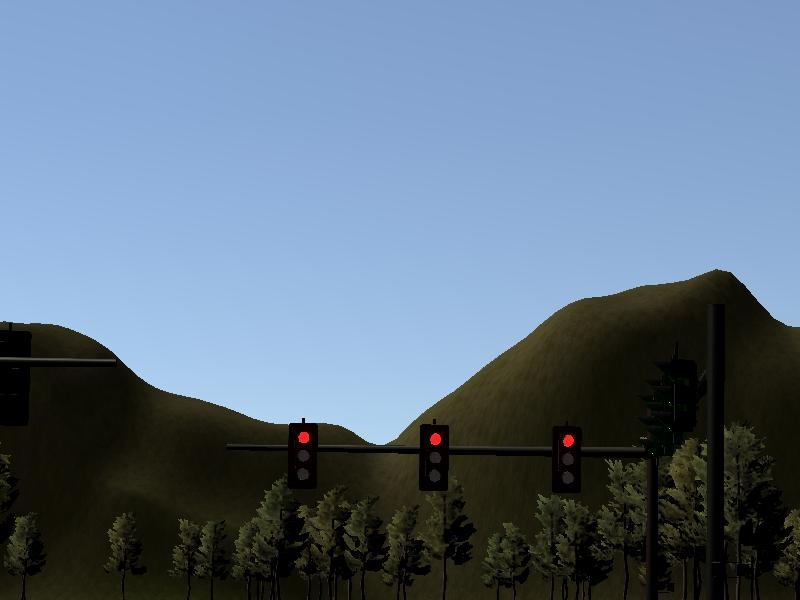traffic_light_red: (269, 423, 599, 489)
